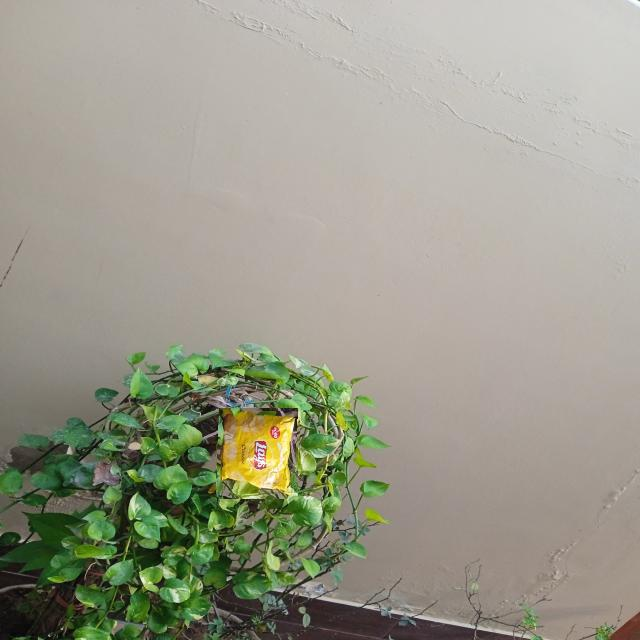Plastic: (216, 411, 301, 497)
